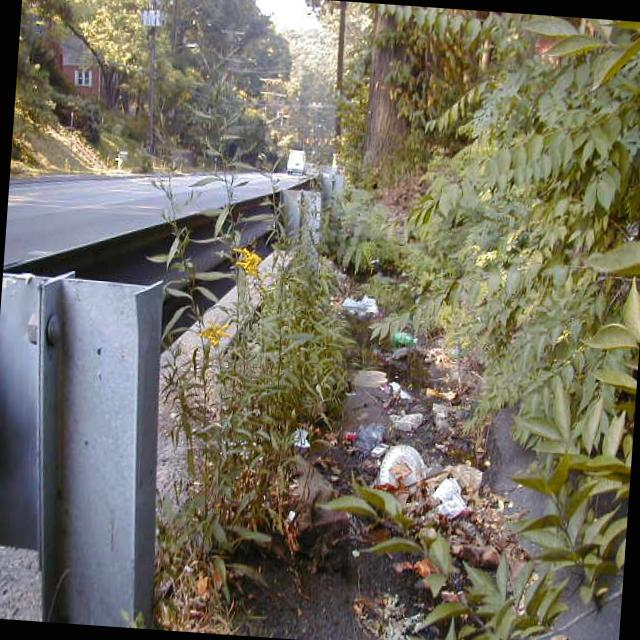garbage: (245, 210, 553, 640)
